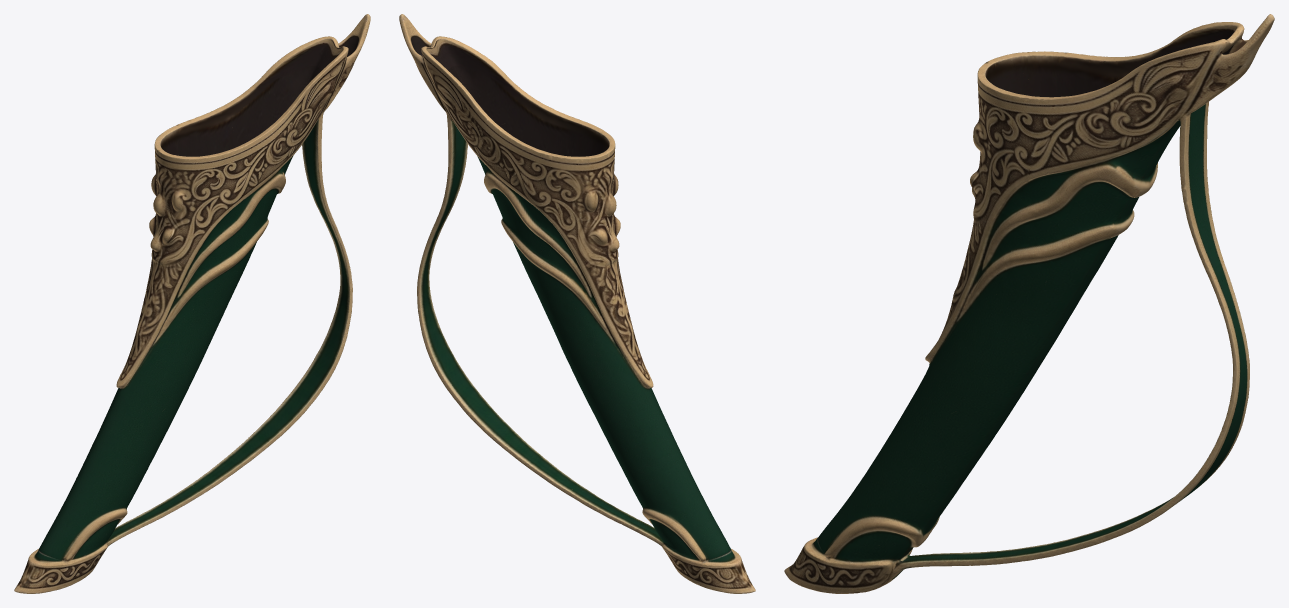
The model's file is quiver.glb.
3 views of the same model, side by side, from view 1: azimuth 30°, elevation 25°; view 2: azimuth 150°, elevation 25°; view 3: azimuth 330°, elevation 25° (orthographic). The views are drawn at different scales.
Bounding box in the file's own units: 1.43 × 1.9 × 0.2997.
1 material, 1 textured.
